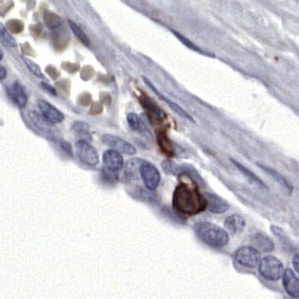Lymphocyte: (172, 181, 212, 219)
